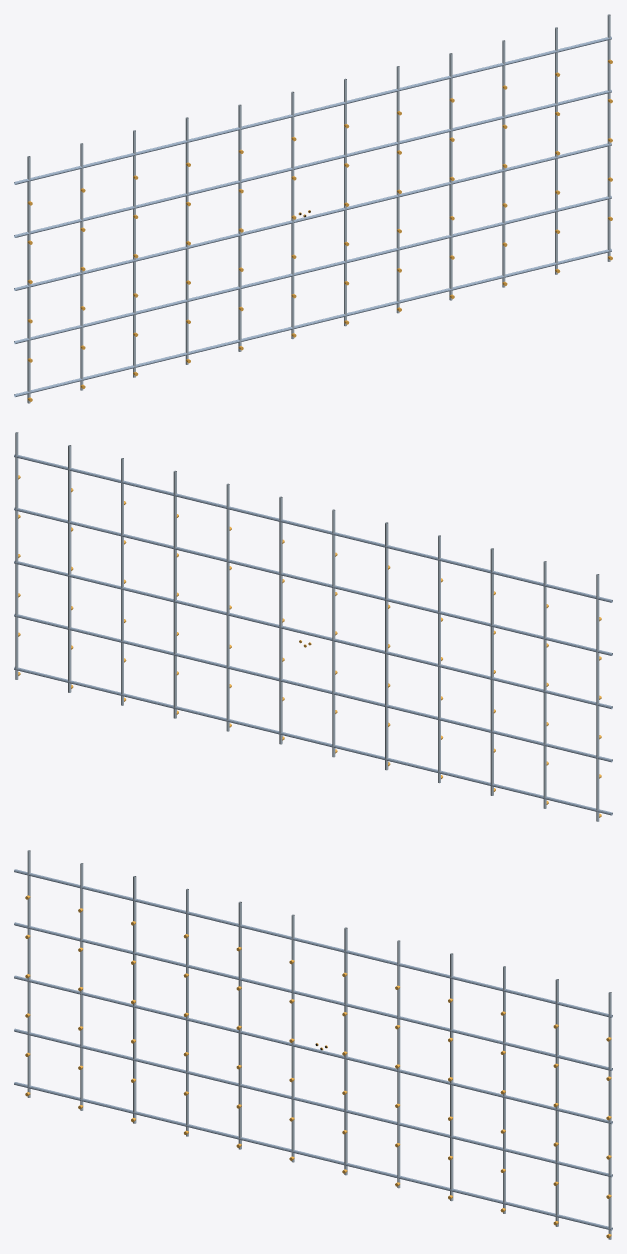
File: 02_L91_StellarSceneryStructuralFrame.fbx
3 renders of one model, top to bottom at view 1: azimuth 30°, elevation 25°; view 2: azimuth 150°, elevation 25°; view 3: azimuth 330°, elevation 25°, orthographic.
Parts seen in each view (by area): view 1: L91_StellarSceneryStructuralFrame_Part_0000, L91_StellarSceneryStructuralFrame_Part_0001; view 2: L91_StellarSceneryStructuralFrame_Part_0000, L91_StellarSceneryStructuralFrame_Part_0001; view 3: L91_StellarSceneryStructuralFrame_Part_0000, L91_StellarSceneryStructuralFrame_Part_0001.
Part boxes in pixels (left/top/right/bottom): L91_StellarSceneryStructuralFrame_Part_0000: left=14, top=36, right=611, bottom=397; L91_StellarSceneryStructuralFrame_Part_0001: left=27, top=14, right=610, bottom=403; L91_StellarSceneryStructuralFrame_Part_0000: left=14, top=454, right=612, bottom=815; L91_StellarSceneryStructuralFrame_Part_0001: left=15, top=432, right=599, bottom=821; L91_StellarSceneryStructuralFrame_Part_0000: left=14, top=869, right=612, bottom=1230; L91_StellarSceneryStructuralFrame_Part_0001: left=27, top=850, right=611, bottom=1239.
Size of the model in its own units: 2940 by 1160 by 90.6.
